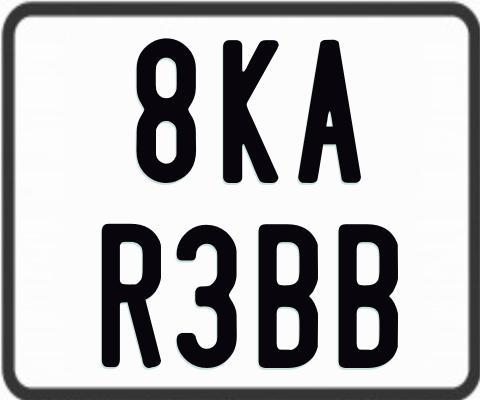3: (175, 225, 236, 373)
8: (134, 38, 195, 185)
A: (296, 38, 362, 186)
B: (256, 223, 318, 373), (338, 224, 399, 370)
K: (220, 39, 282, 184)
R: (100, 222, 160, 368)
